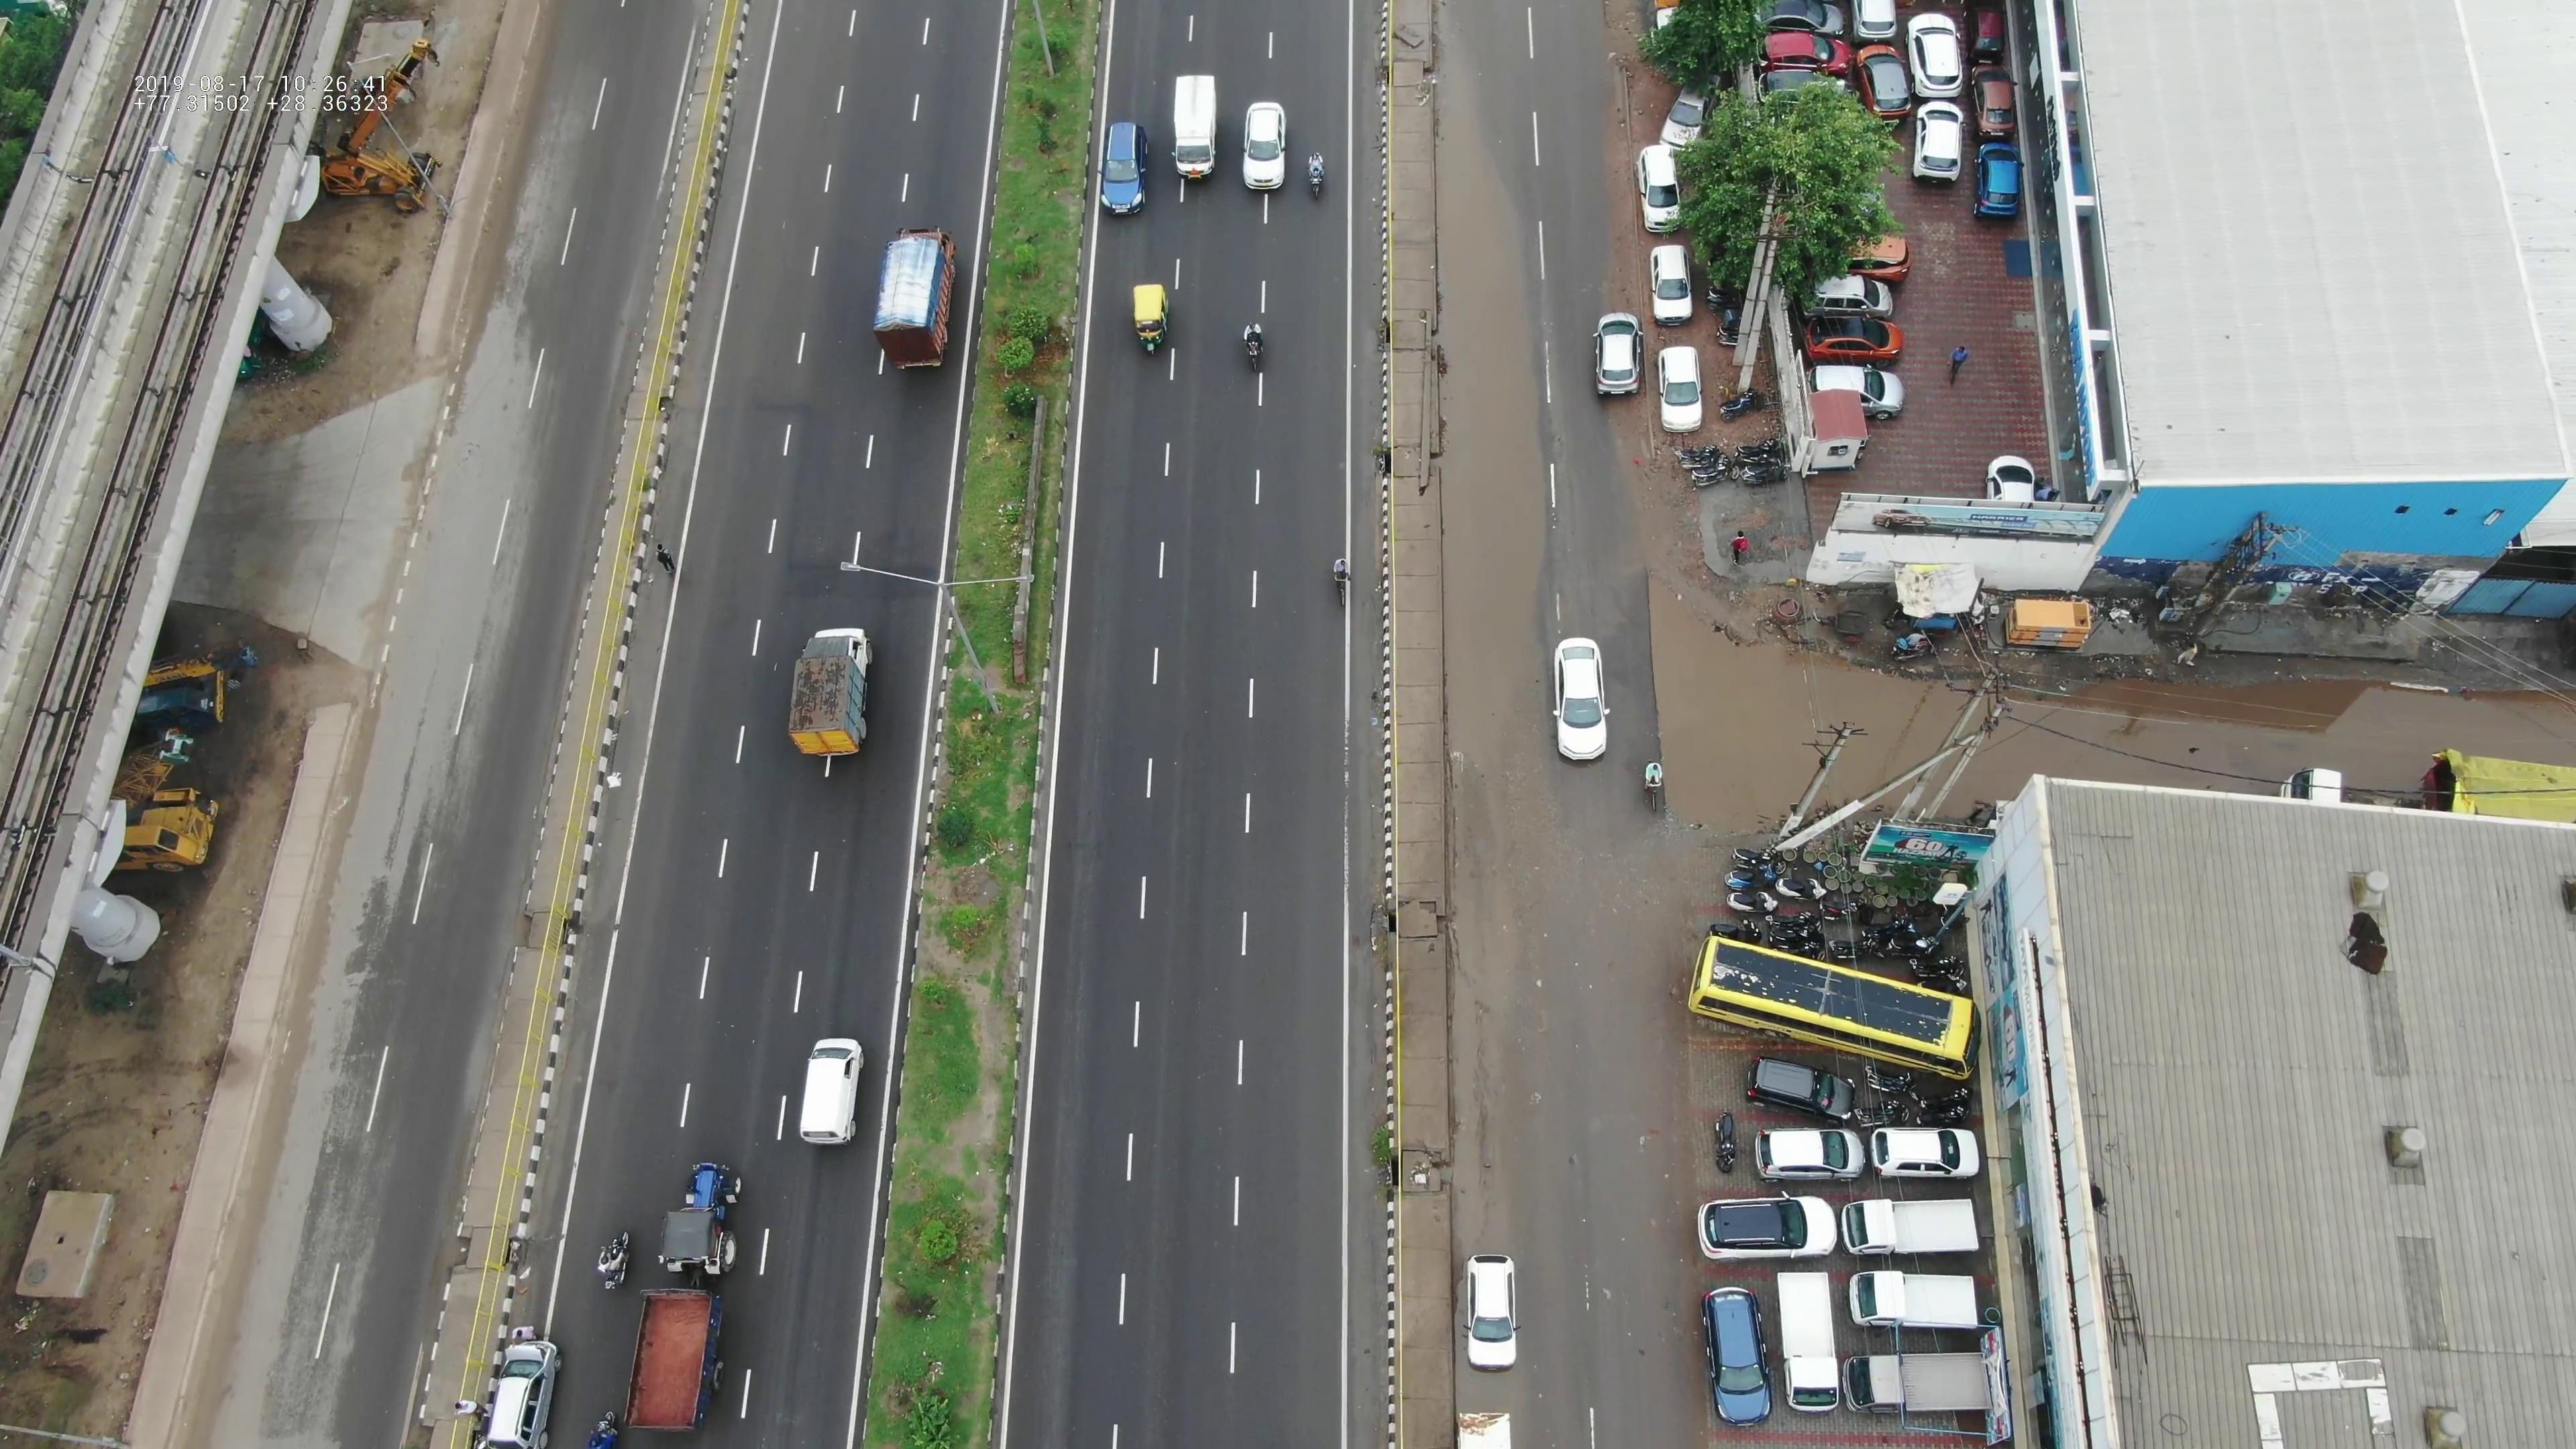Muddy_road: (1456, 855, 1506, 1210)
Waterlogging: (1414, 50, 1536, 725), (1645, 575, 1787, 824)
